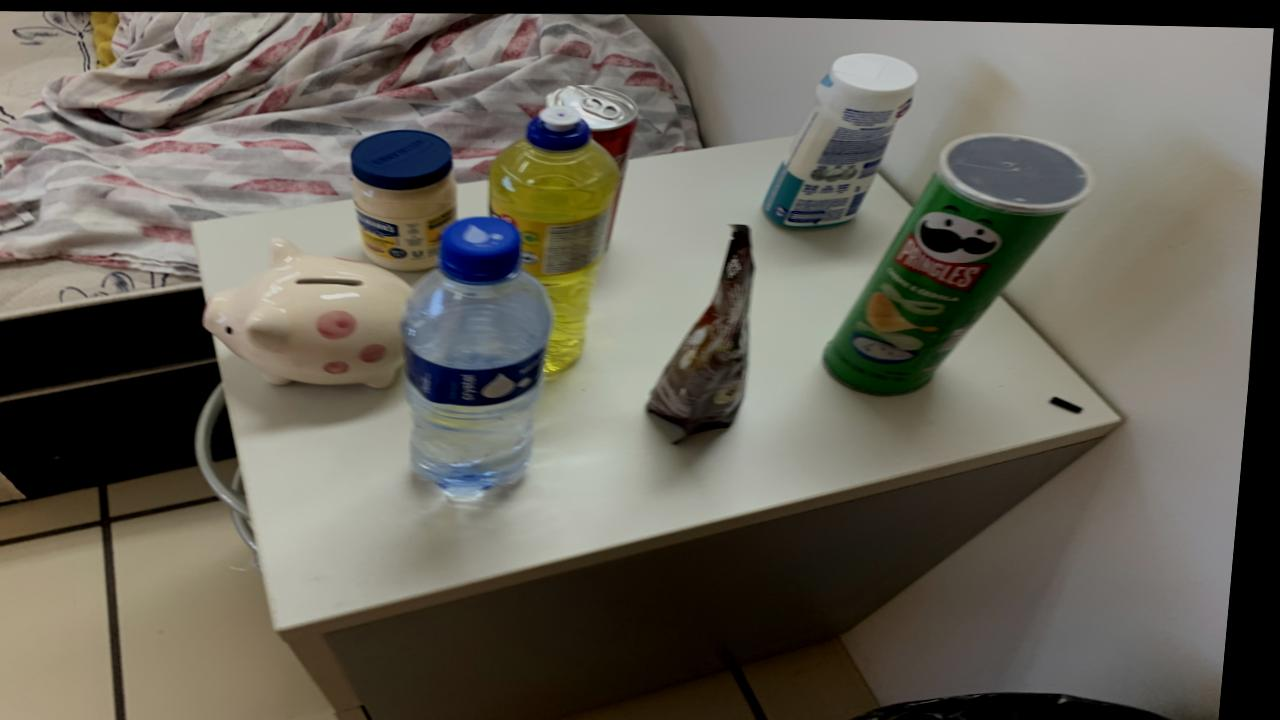Cleaner-Cleanup_Items: (766, 49, 919, 225)
Coffee-Pantry_Items: (653, 221, 758, 431)
Coke-Drinks: (547, 82, 641, 176)
Detergent-Cleanup_Items: (492, 103, 623, 373)
Mayonnaise-Pantry_Items: (353, 127, 461, 268)
Pig_Safe-Miscellaneous: (209, 236, 417, 386)
Pringles-Snacks: (828, 129, 1096, 390)
Water_Bottle-Drinks: (407, 216, 560, 495)
